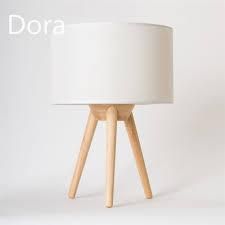Lamp: (41, 19, 177, 208)
